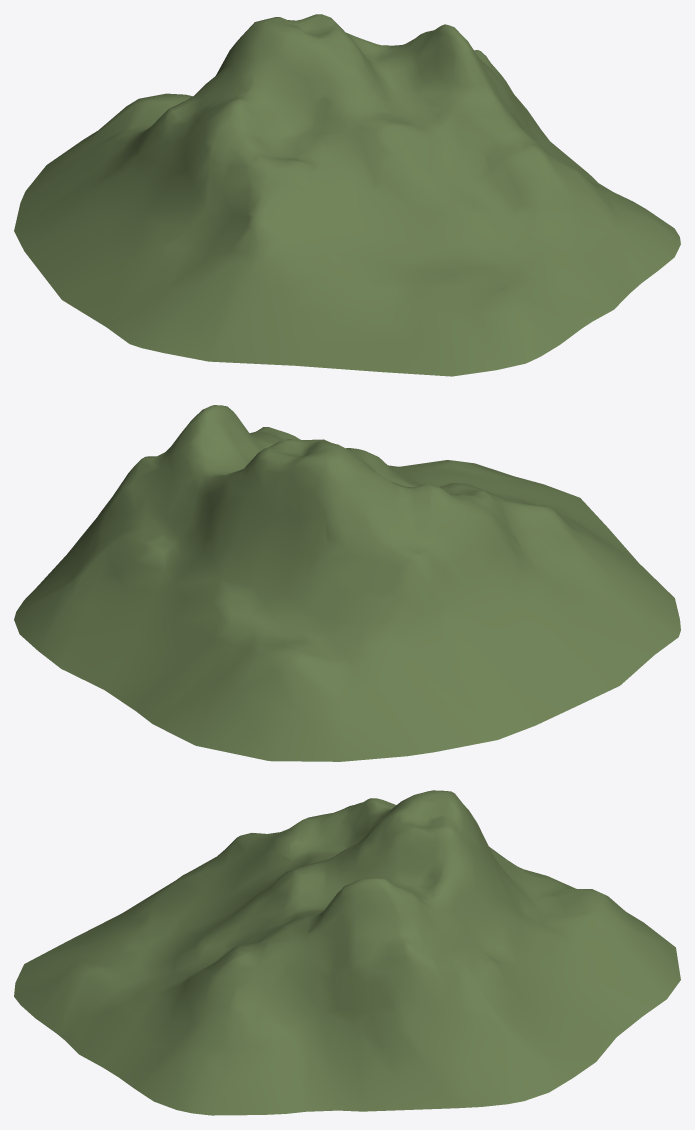
Rendered from mountain.glb.
3 views of the same model, one above another, from view 1: azimuth 30°, elevation 25°; view 2: azimuth 150°, elevation 25°; view 3: azimuth 270°, elevation 25° (orthographic). The views are drawn at different scales.
Visible parts, largest first — view 1: mountain; view 2: mountain; view 3: mountain.
Boxes of the visible parts, bbox=[...] form: mountain: bbox=[14, 14, 680, 376]; mountain: bbox=[14, 405, 680, 761]; mountain: bbox=[14, 790, 680, 1115].
Bounding box in the file's own units: 277 × 95.02 × 309.
